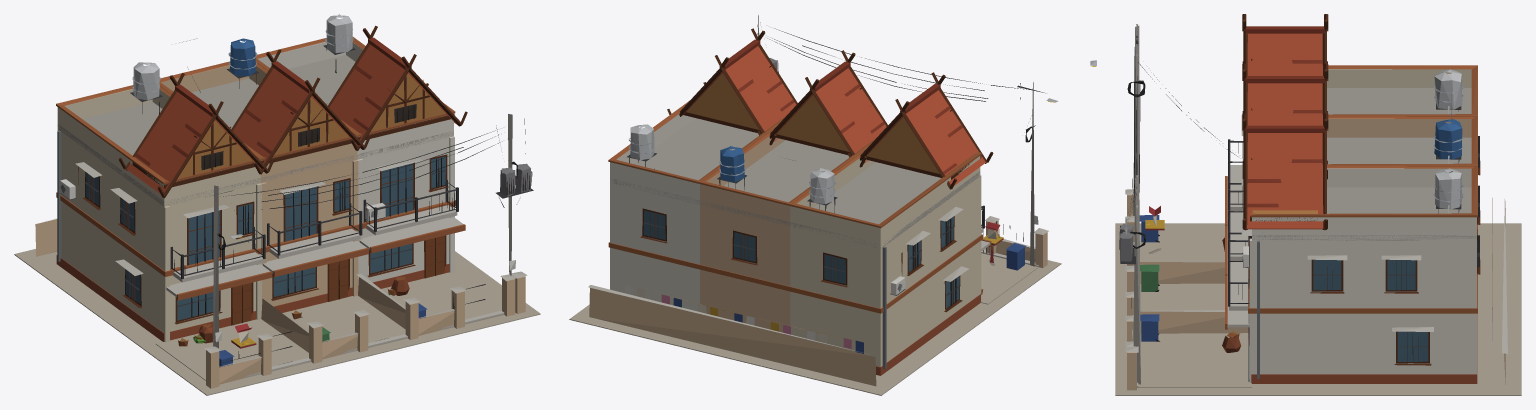
The model's file is home_3.glb.
3 views of the same model, side by side, from view 1: azimuth 30°, elevation 25°; view 2: azimuth 150°, elevation 25°; view 3: azimuth 270°, elevation 25° (orthographic). The views are drawn at different scales.
Parts seen in each view (by area): view 1: body, windows; view 2: body, windows; view 3: body, windows.
Part boxes in pixels (<box>): body: <box>14,14,540,395</box>; windows: <box>85,104,445,320</box>; body: <box>569,15,1061,395</box>; windows: <box>643,101,1055,308</box>; body: <box>1090,14,1521,395</box>; windows: <box>1091,66,1477,361</box>.
Bounding box in the file's own units: 15.9 × 10.84 × 16.88.
